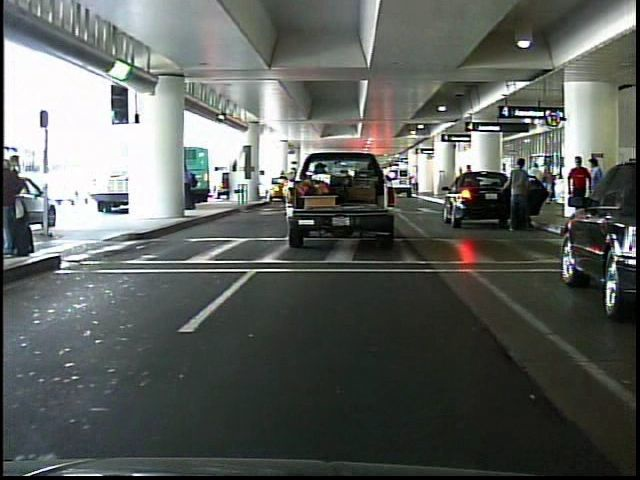person: (495, 150, 536, 236), (568, 155, 589, 195)
